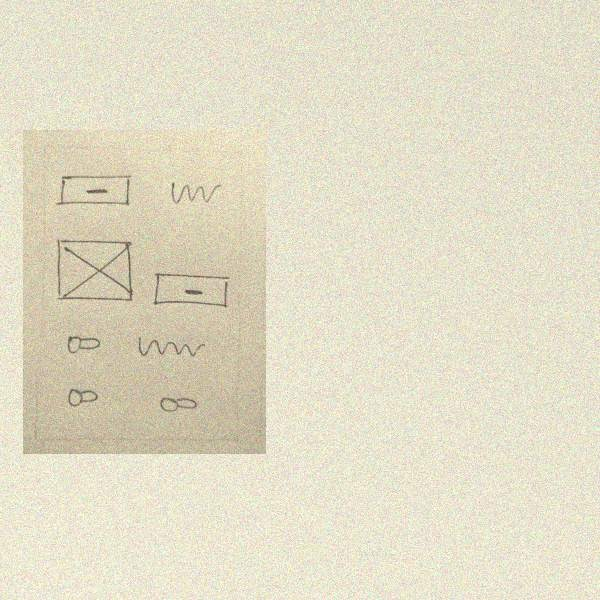button: (147, 268, 234, 313), (53, 172, 135, 210)
image: (52, 236, 138, 305)
switch: (158, 390, 201, 418), (64, 383, 109, 409), (61, 334, 104, 357)
text: (132, 333, 210, 362), (165, 175, 227, 210)
